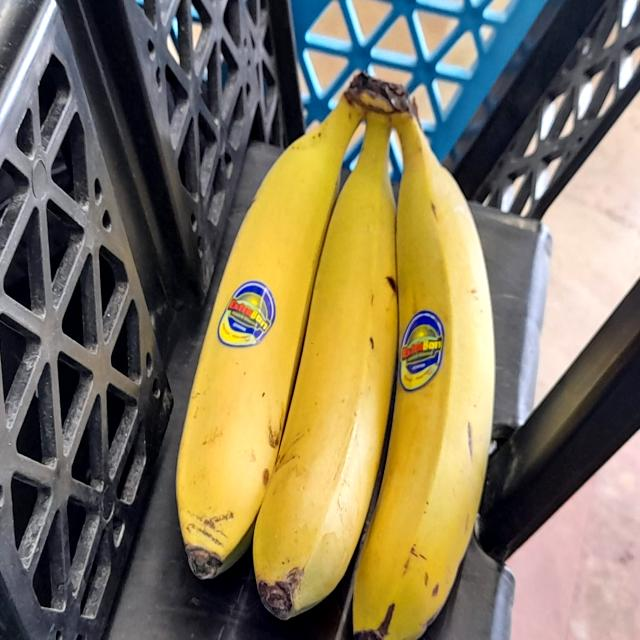banana: (348, 80, 496, 640)
